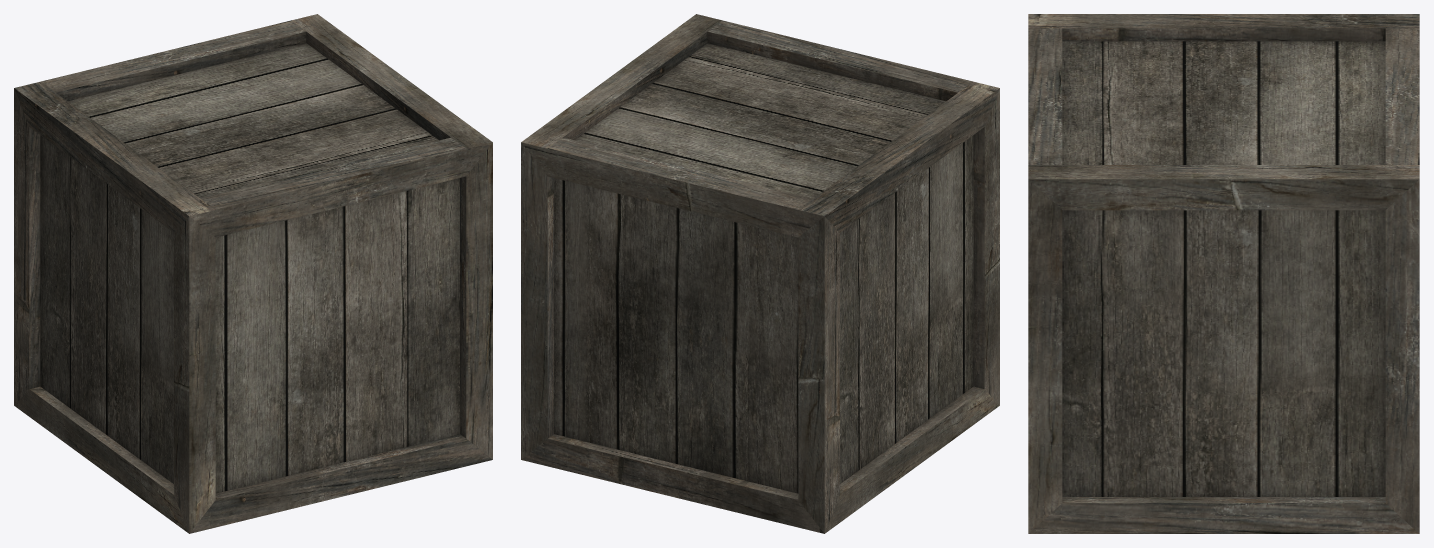
Rendered from crate.glb.
3 views of the same model, side by side, from view 1: azimuth 30°, elevation 25°; view 2: azimuth 150°, elevation 25°; view 3: azimuth 270°, elevation 25° (orthographic). The views are drawn at different scales.
Visible parts, largest first — view 1: crate; view 2: crate; view 3: crate.
Part boxes in pixels (x1,y1,x2,y2): crate: (14,14,492,533); crate: (521,14,999,533); crate: (1028,14,1419,533).
Size of the model in its own units: 0.5047 by 0.5047 by 0.5047.
1 material, 1 textured.
